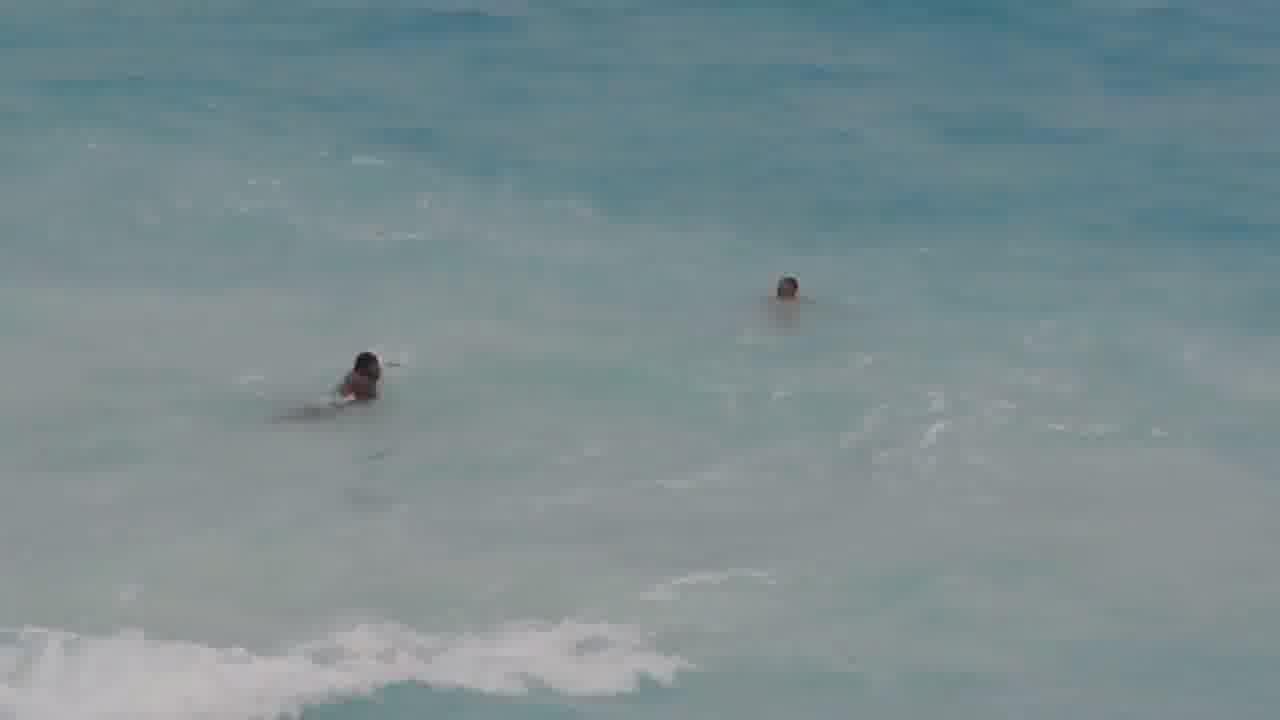human: (328, 345, 400, 409), (768, 264, 818, 318)
